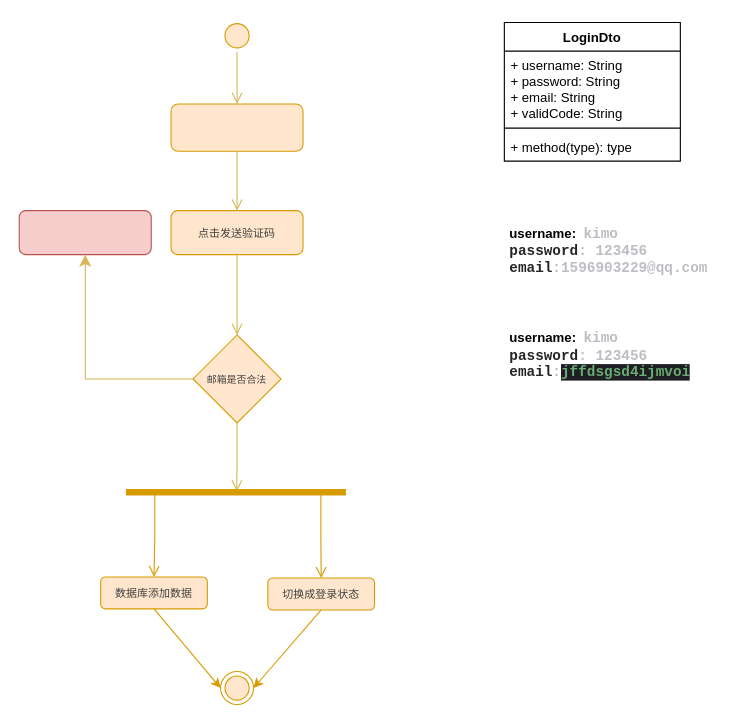
The diagram is 745 pixels wide and 724 high, and some of its shapes have lost their labels. The shapes that lost their labels are listed below. From the top down, each one's centre as x and y in pixels, then its label:
At [236,127]: "填写用户名,邮箱地址,密码".
At [84,232]: "报错弹窗".
